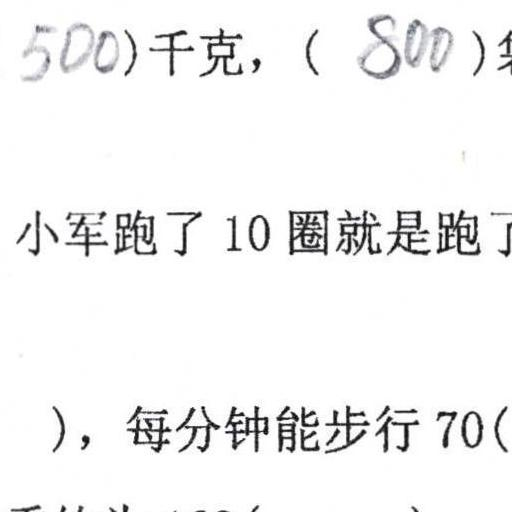ans: (353, 4, 453, 81), (16, 13, 120, 83)
